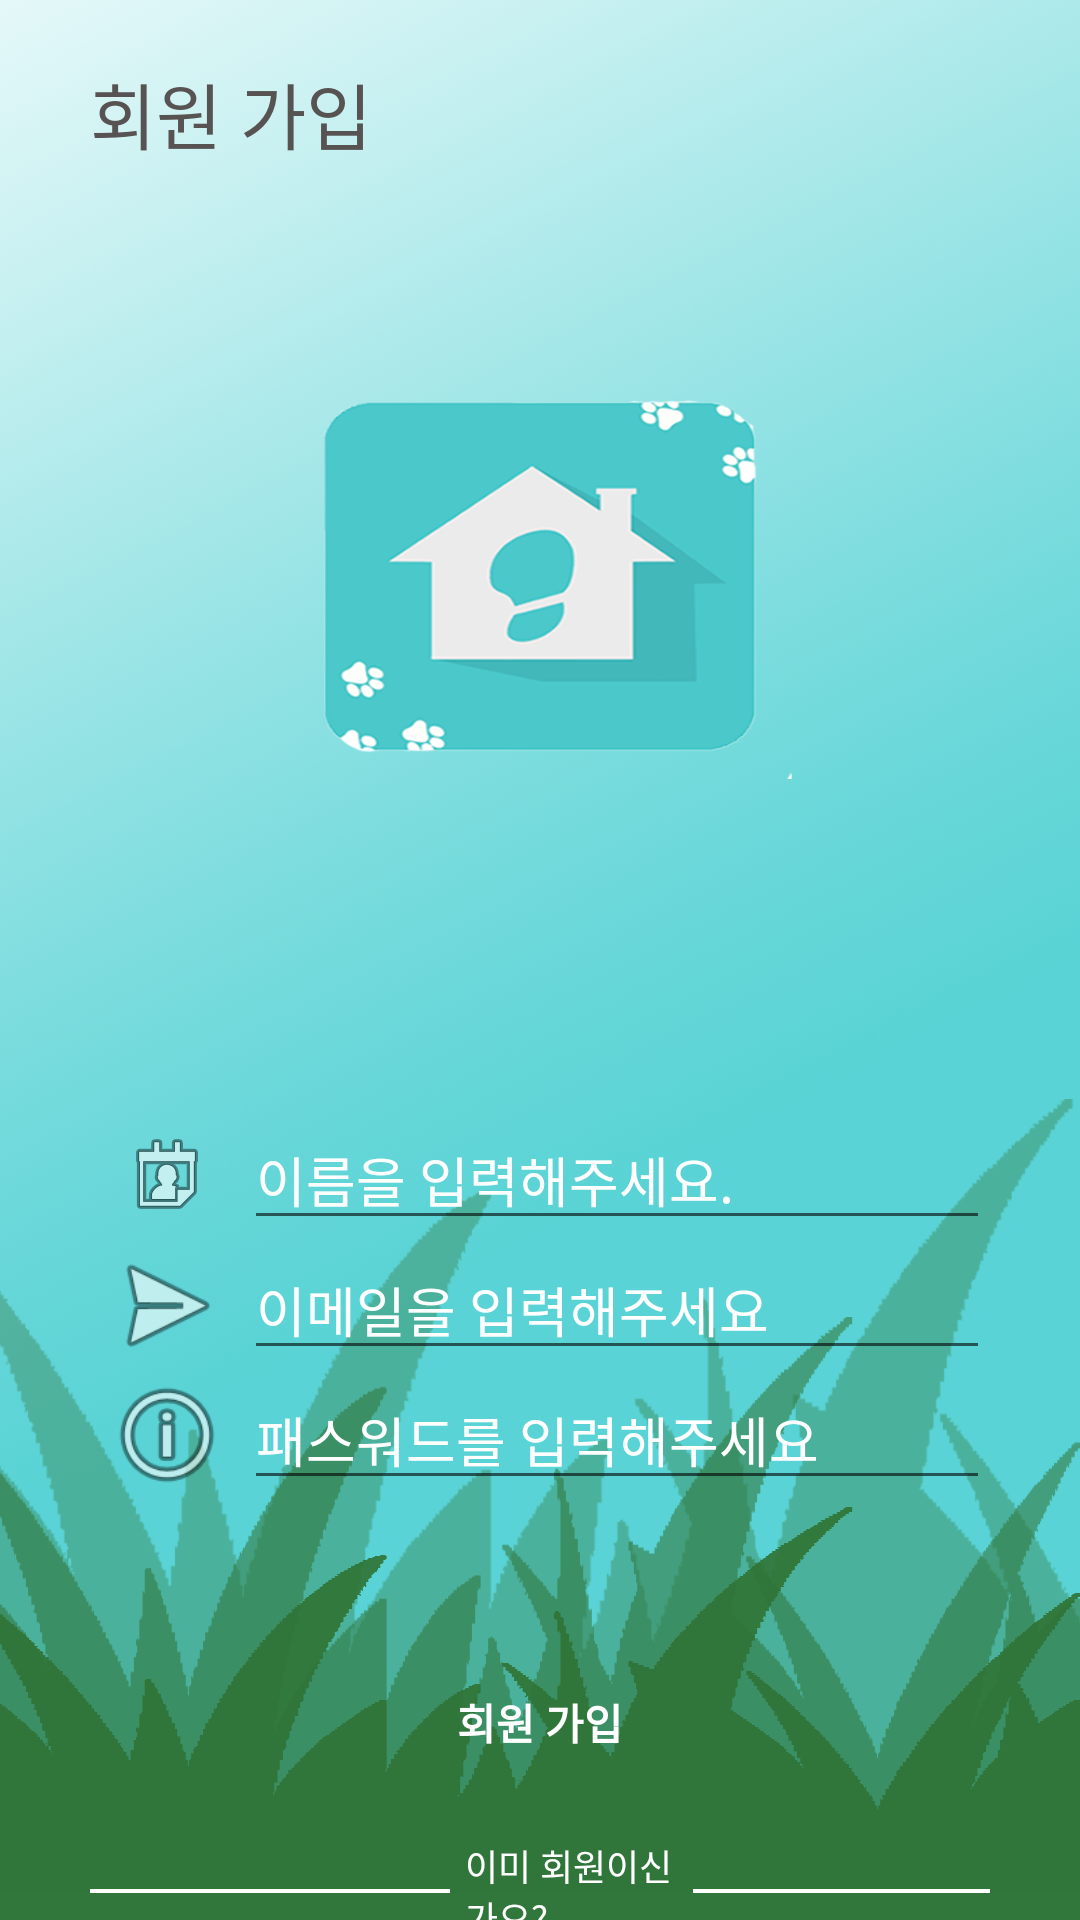

Where to tap for icons on this 1080×1920 app screen, as (x,y):
calendar: (167,1174)
info details: (154,1444)
send: (168,1306)
